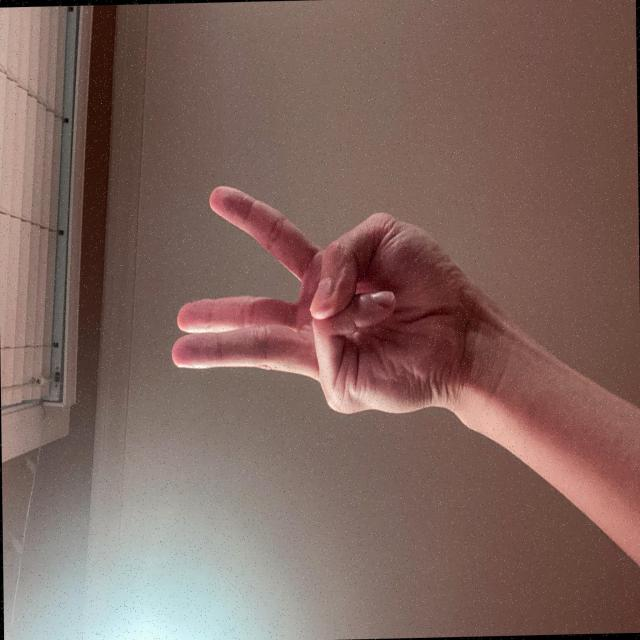W: (150, 215, 356, 640)
